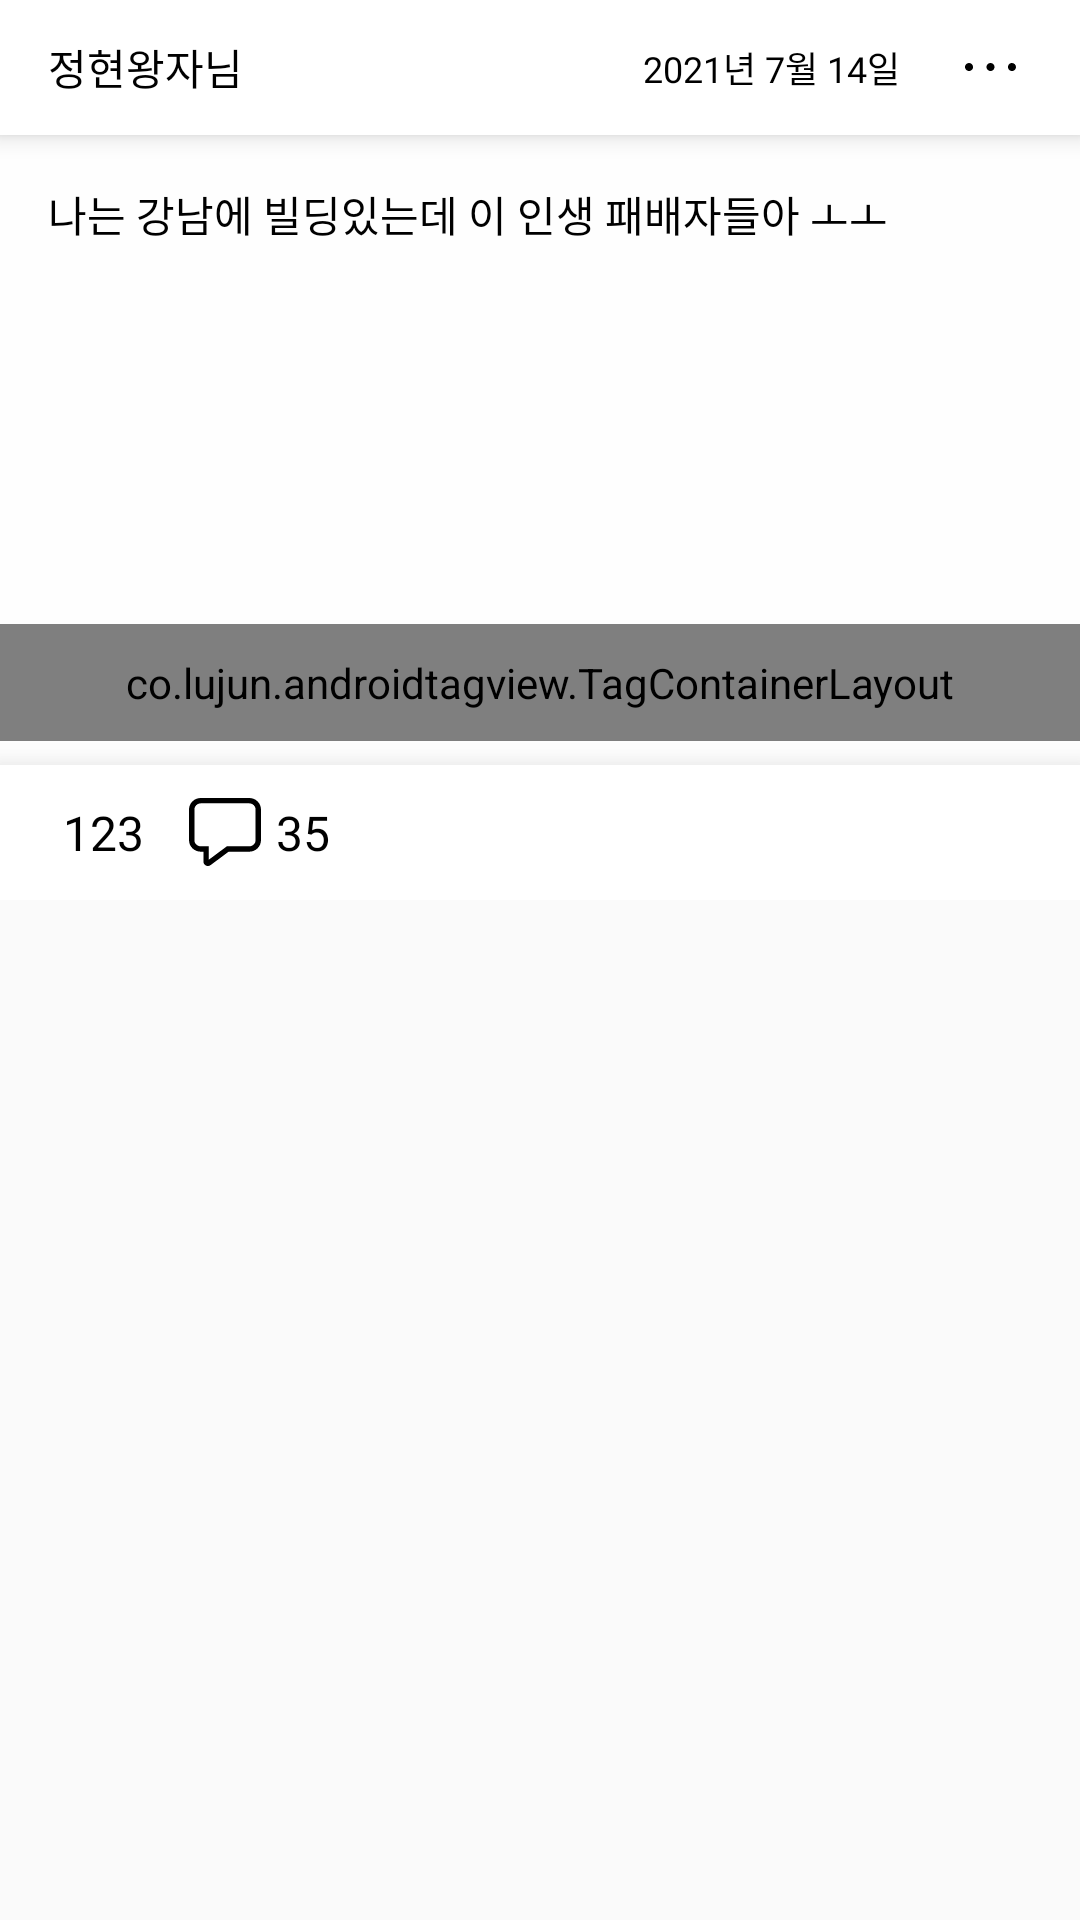

Screen size 1080px×1920px. Icon name, then its box in pixels as (x1, y1, x2, y2):
comment: (189, 798, 261, 866)
